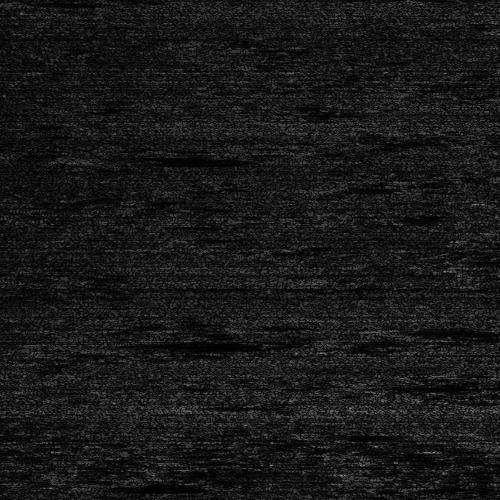rock: (31, 342, 166, 353), (57, 481, 150, 492), (84, 154, 177, 163)
shadow: (131, 154, 273, 163), (99, 342, 213, 353), (104, 481, 203, 492)
